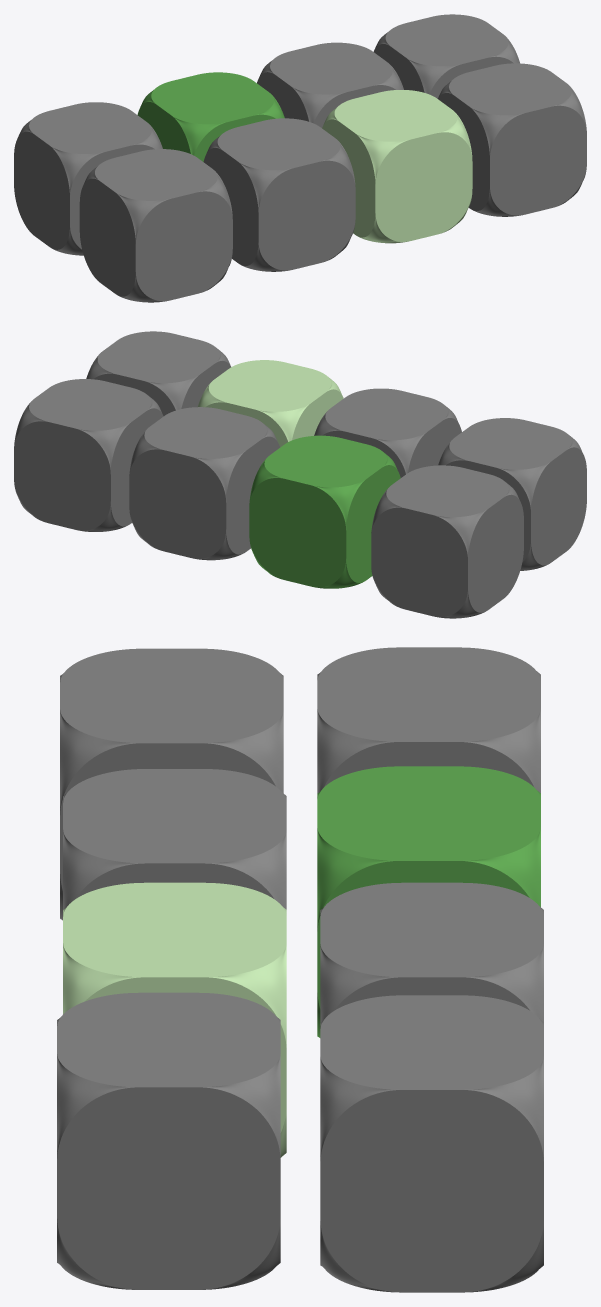
3 renders of one model, top to bottom at view 1: azimuth 30°, elevation 25°; view 2: azimuth 150°, elevation 25°; view 3: azimuth 270°, elevation 25°, orthographic. The views are drawn at different scales.
Visible parts, largest first — view 1: Cube007, Cube001, Cube008, Cube002, Cube006, Cube005, Cube004, Cube003; view 2: Cube006, Cube005, Cube004, Cube003, Cube007, Cube001, Cube008, Cube002; view 3: Cube003, Cube002, Cube007, Cube006, Cube005, Cube008, Cube001, Cube004.
Boxes of the visible parts, x1=… form: Cube007: x1=79, y1=149, x2=232, y2=302; Cube001: x1=203, y1=118, x2=355, y2=271; Cube008: x1=322, y1=90, x2=472, y2=243; Cube002: x1=438, y1=63, x2=586, y2=216; Cube006: x1=14, y1=102, x2=162, y2=255; Cube005: x1=137, y1=72, x2=284, y2=161; Cube004: x1=257, y1=42, x2=403, y2=127; Cube003: x1=373, y1=14, x2=519, y2=98; Cube006: x1=371, y1=465, x2=523, y2=618; Cube005: x1=249, y1=435, x2=400, y2=588; Cube004: x1=129, y1=407, x2=279, y2=560; Cube003: x1=14, y1=379, x2=163, y2=531; Cube007: x1=438, y1=418, x2=586, y2=570; Cube001: x1=314, y1=388, x2=461, y2=477; Cube008: x1=197, y1=360, x2=343, y2=447; Cube002: x1=86, y1=331, x2=230, y2=415; Cube003: x1=320, y1=995, x2=543, y2=1292; Cube002: x1=57, y1=992, x2=280, y2=1289; Cube007: x1=60, y1=648, x2=283, y2=920; Cube006: x1=317, y1=647, x2=540, y2=793; Cube005: x1=317, y1=766, x2=540, y2=1037; Cube008: x1=63, y1=882, x2=286, y2=1157; Cube001: x1=63, y1=769, x2=286, y2=909; Cube004: x1=320, y1=882, x2=543, y2=1022.
Size of the model in its own units: 9.36 by 2 by 4.36.
